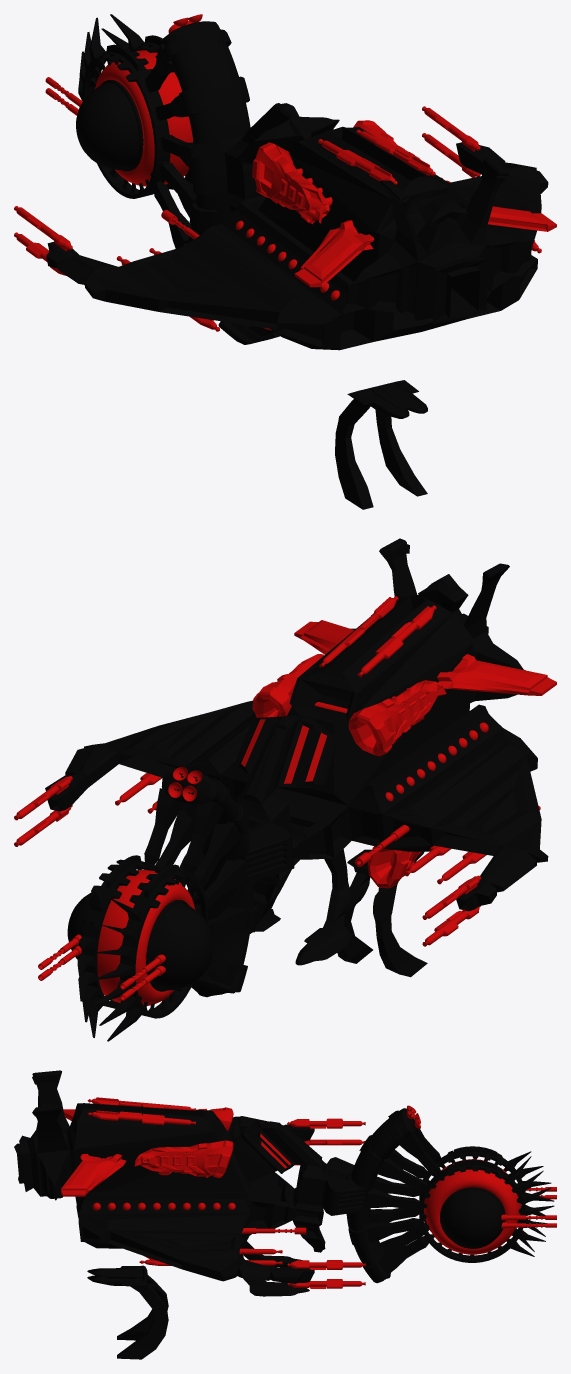
File: enemy_4.glb
3 views of the same model, one above another, from view 1: azimuth 30°, elevation 25°; view 2: azimuth 150°, elevation 25°; view 3: azimuth 270°, elevation 25° (orthographic). The views are drawn at different scales.
Parts seen in each view (by area): view 1: Torus005, Tube018, Sphere0467803, Box00335687, Torus006, Box0043568, Box335692, Box335691, Tube019, Cha3456mferCyl018, Box335690, Chamf3456erCyl019 (+2 smaller); view 2: Torus005, Tube018, Tube019, Torus006, Box00335687, Sphere0467803, Box0043568, Box335690, Box335692, Box0053568, Box335691, Box0062727 (+5 smaller); view 3: Torus005, Tube019, Tube018, Torus006, Sph345634ere004, Box0053568, Box335691, Box00335687, Box335692, Box335689, Chamf3456erCyl019, ChamferC27yl022 (+5 smaller).
Part boxes in pixels (x1,y1,x2,y2): Torus005: (46, 21, 548, 350); Tube018: (78, 17, 196, 248); Sphere0467803: (76, 83, 139, 169); Box00335687: (294, 206, 556, 287); Torus006: (95, 50, 192, 186); Box0043568: (252, 142, 329, 224); Box335692: (335, 385, 409, 509); Box335691: (371, 380, 427, 496); Tube019: (101, 14, 193, 189); Cha3456mferCyl018: (318, 139, 397, 184); Box335690: (218, 321, 279, 344); Chamf3456erCyl019: (356, 129, 435, 176); Torus005: (45, 538, 548, 997); Tube018: (93, 800, 247, 1041); Tube019: (77, 788, 204, 1037); Torus006: (97, 870, 195, 1005); Box00335687: (294, 620, 556, 695); Sphere0467803: (150, 903, 213, 990); Box0043568: (348, 680, 446, 756); Box335690: (295, 849, 353, 965); Box335692: (373, 851, 427, 977); Box0053568: (252, 654, 323, 717); Box335691: (337, 849, 372, 963); Box0062727: (367, 846, 422, 888); Torus005: (14, 1070, 415, 1283); Tube019: (365, 1134, 554, 1274); Tube018: (370, 1127, 554, 1253); Torus006: (424, 1159, 521, 1254); Sph345634ere004: (441, 1189, 504, 1248); Box0053568: (134, 1140, 233, 1177); Box335691: (87, 1271, 168, 1359); Box00335687: (61, 1109, 126, 1196); Box335692: (87, 1265, 168, 1340); Box335689: (239, 1227, 309, 1296); Chamf3456erCyl019: (87, 1110, 195, 1125); ChamferC27yl022: (287, 1118, 365, 1128).
Size of the model in its own units: 3.76 by 2.86 by 5.43.
